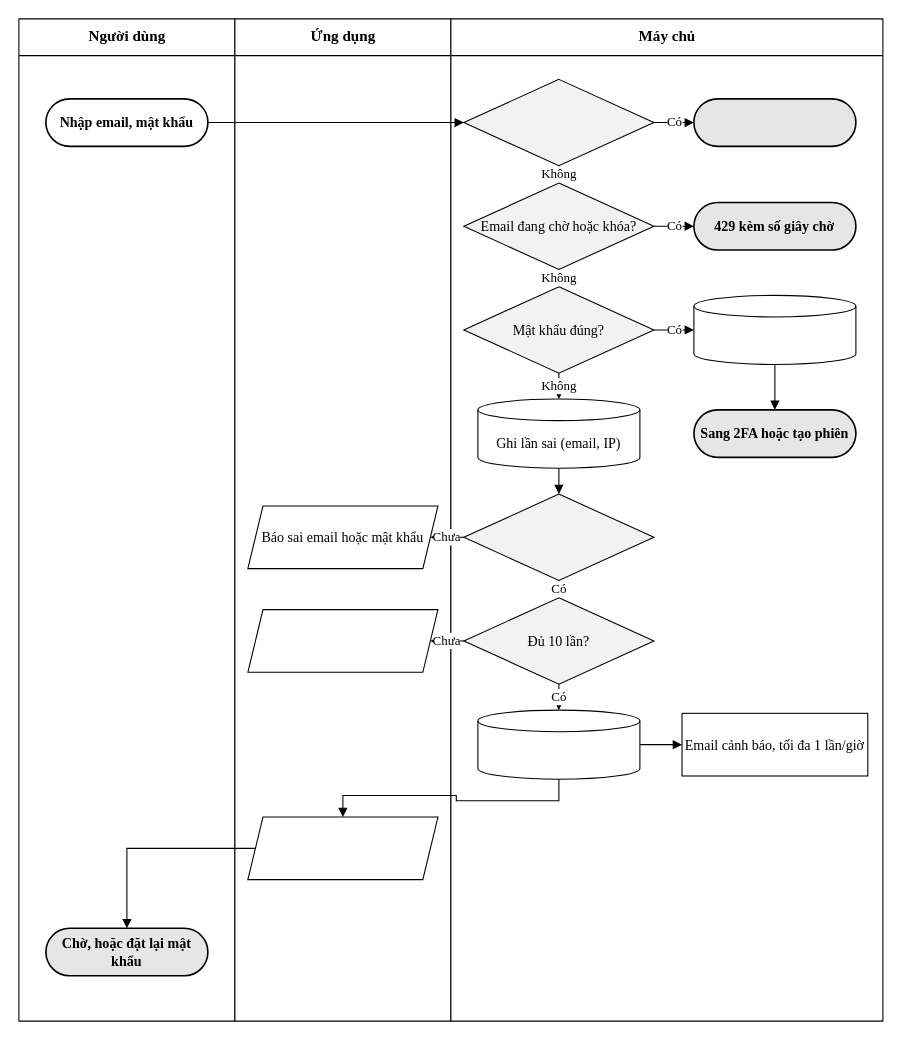
This 902x1040 diagram has some shape labels left out. Here are the shapes that lost their labels. From the top down, the centre of each, then its label:
At [558,122]: "IP sai quá 50 lần/giờ?".
At [774,122]: "429, thử lại sau".
At [774,329]: "Xóa bộ đếm sai của email".
At [558,536]: "Sai ≥ 5 lần trong 15 phút?".
At [342,640]: "Báo chờ 30 giây, 1, 2, 5 phút".
At [558,744]: "Khóa đăng nhập bằng mật khẩu 15 phút".
At [342,848]: "Báo khóa 15 phút, nút Quên mật khẩu".
